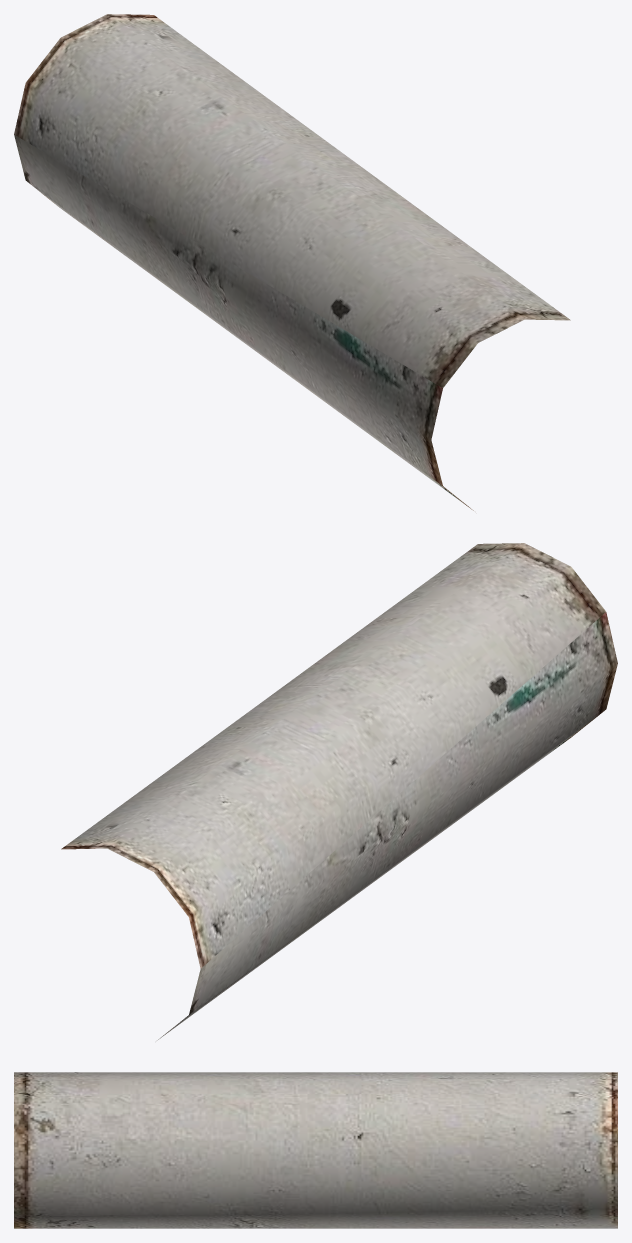
File: pipe03_straight01_short.glb
3 views of the same model, one above another, from view 1: azimuth 30°, elevation 25°; view 2: azimuth 150°, elevation 25°; view 3: azimuth 270°, elevation 25° (orthographic). The views are drawn at different scales.
Visible parts, largest first — view 1: 0_pipesystem01a_skin1; view 2: 0_pipesystem01a_skin1; view 3: 0_pipesystem01a_skin1.
Part boxes in pixels (<box>): 0_pipesystem01a_skin1: <box>14,14,570,510</box>; 0_pipesystem01a_skin1: <box>61,543,617,1040</box>; 0_pipesystem01a_skin1: <box>14,1072,617,1228</box>.
Size of the model in its own units: 0.4195 by 0.4195 by 1.63.
1 material, 1 textured.
